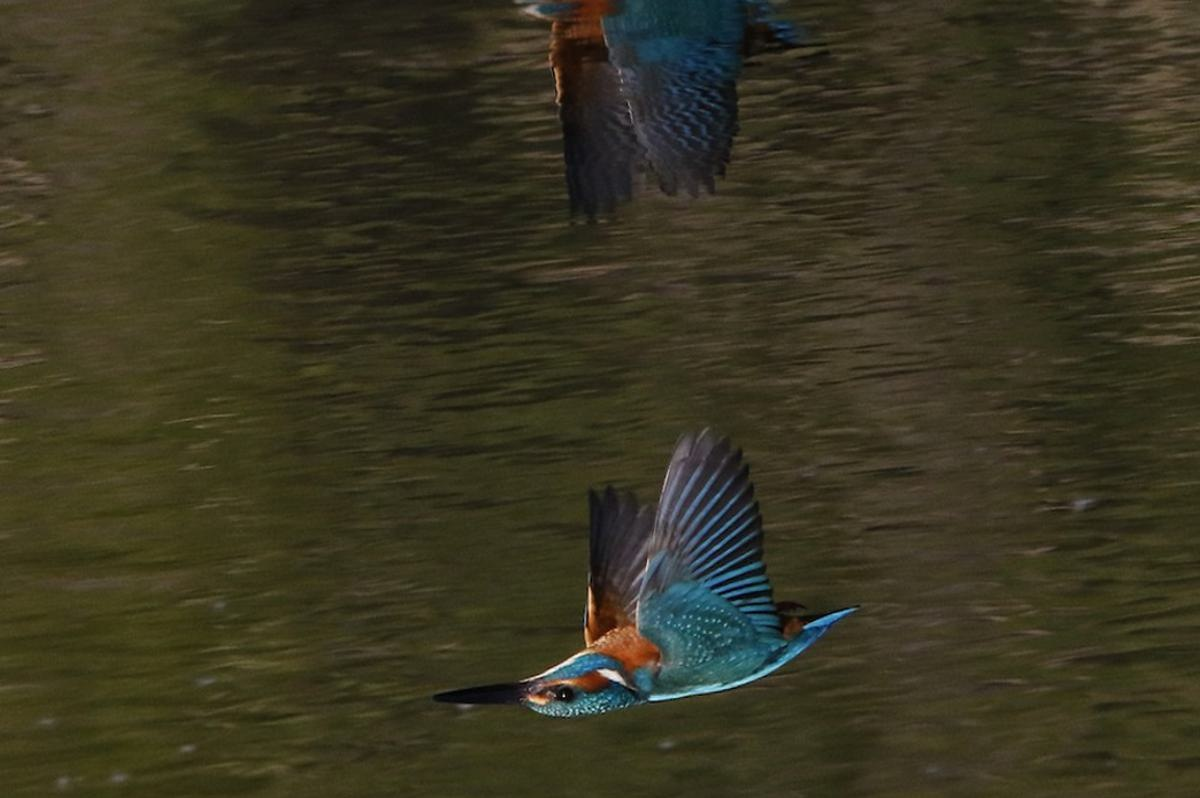kingfisher: (446, 431, 863, 748), (532, 4, 810, 226)
